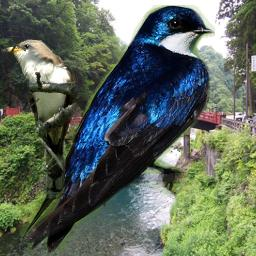Cuckoo: (1, 39, 78, 199)
Swallow: (20, 5, 215, 254)
